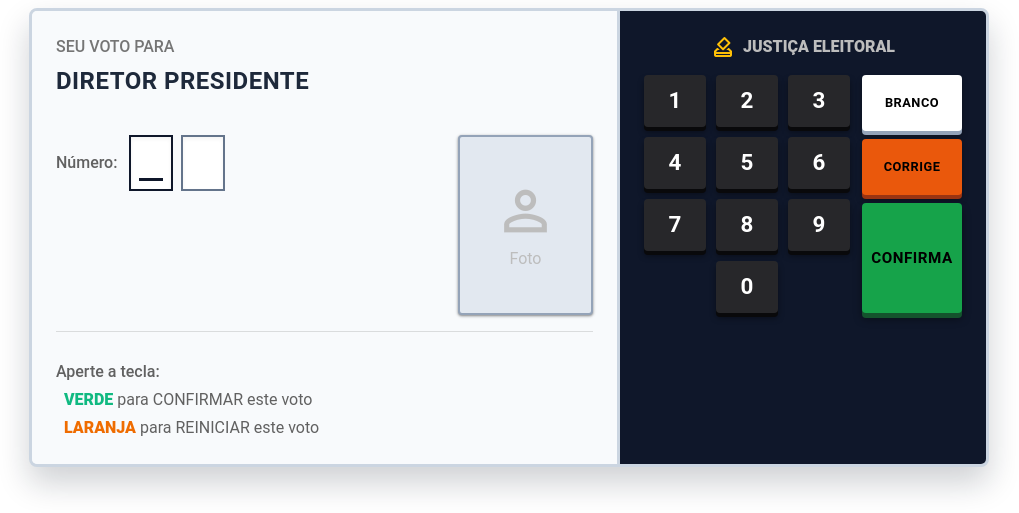
Test: VirtualBallotBox Component › shows NÚMERO ERRADO and VOTO NULO when unassigned number is entered
Step 1. Click the button with class "key-num" showing "9" → click(819, 225), box 788,199 -> 850,251
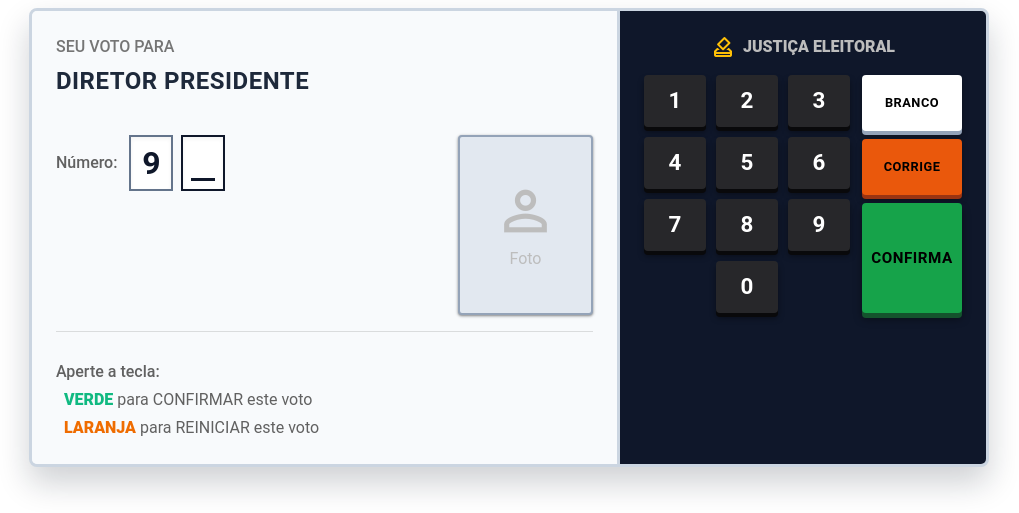
Step 2. Click the button with class "key-num" showing "9" → click(819, 225), box 788,199 -> 850,251
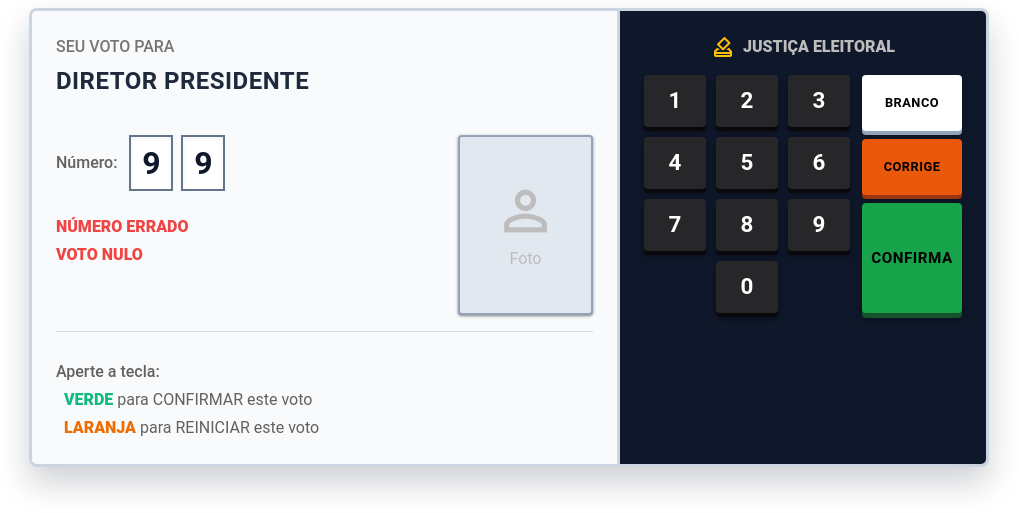
Now the text "Número Errado" is shown, box 56,217 -> 188,236
Now the text "Voto Nulo" is shown, box 56,245 -> 143,264
